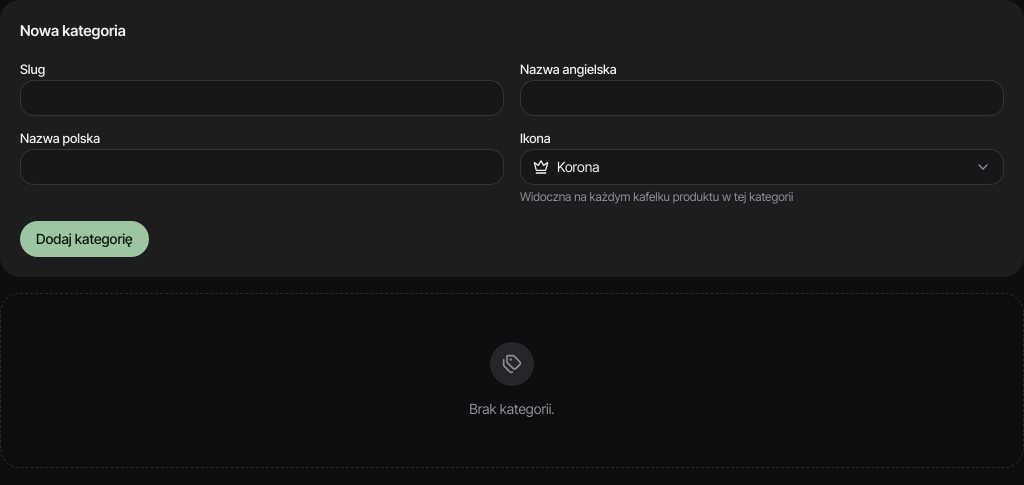
Test: CategoriesTable › labels the icon options with translated names, not the enum values
Click the dropdown named "Ikona" at (578, 166), box [520,148,1004,184]
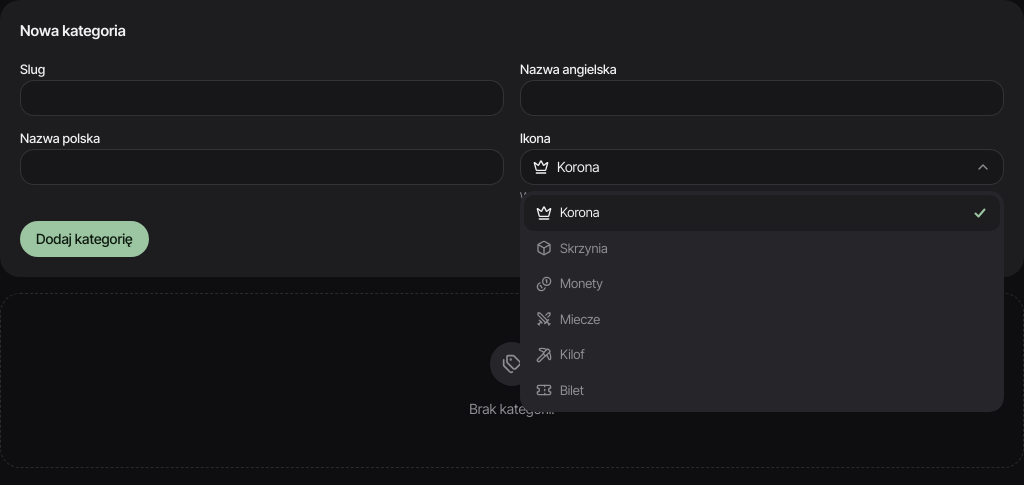
Check: the options read "Korona", "Skrzynia", "Monety", "Miecze", "Kilof", "Bilet", in this order, box [524,195,1000,230]; [536,240,608,256]; [536,275,603,292]; [536,310,600,327]; [536,346,584,363]; [536,382,584,398]
